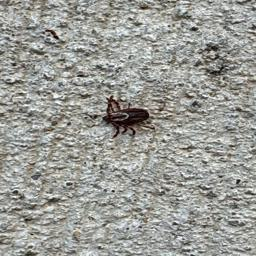Dermacentor variabilis: (100, 95, 156, 138)
